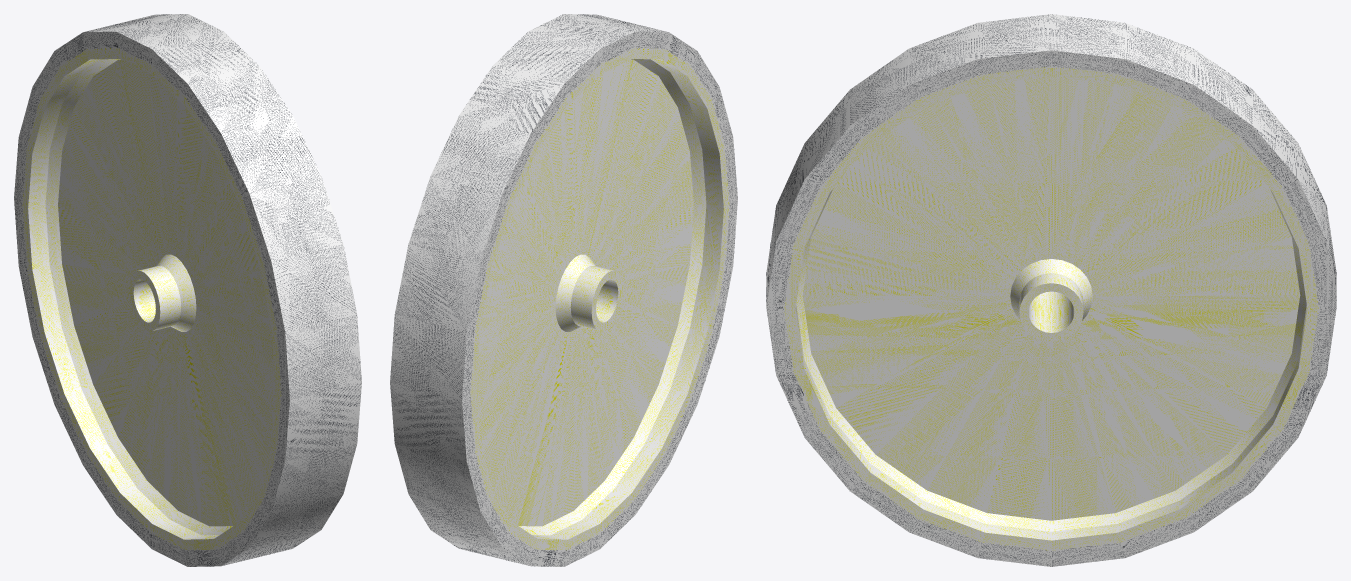
Rendered from Rad_gelb.dae.
3 renders of one model, left to right at view 1: azimuth 30°, elevation 25°; view 2: azimuth 150°, elevation 25°; view 3: azimuth 270°, elevation 25°, orthographic. The views are drawn at different scales.
Parts seen in each view (by area): view 1: Rad_gelb (×5); view 2: Rad_gelb (×5); view 3: Rad_gelb (×5).
Boxes of the visible parts, bbox=[...] form: Rad_gelb (×5): bbox=[14, 14, 361, 566]; Rad_gelb (×5): bbox=[390, 14, 737, 566]; Rad_gelb (×5): bbox=[766, 14, 1336, 566].
Bounding box in the file's own units: 1.06 × 5.88 × 5.88.
Materials: 3 (1 with a texture image).
